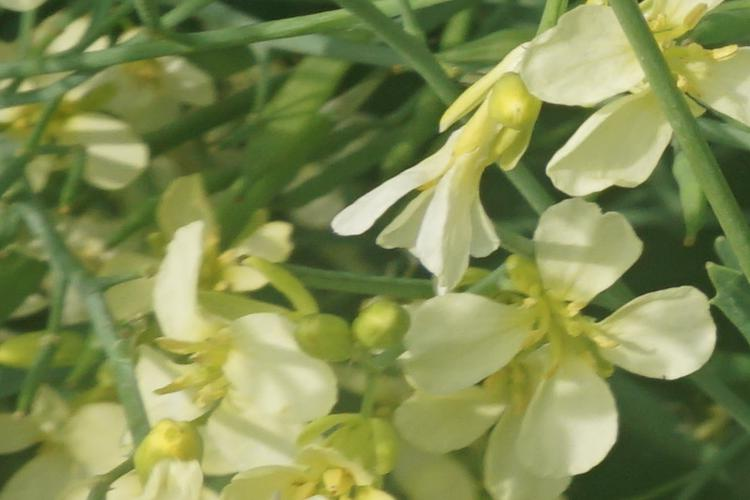bud: (332, 286, 408, 357), (131, 418, 221, 473), (289, 312, 362, 369), (487, 78, 544, 140)
white: (436, 198, 695, 457), (103, 237, 336, 451), (557, 21, 744, 189), (331, 127, 515, 279)
